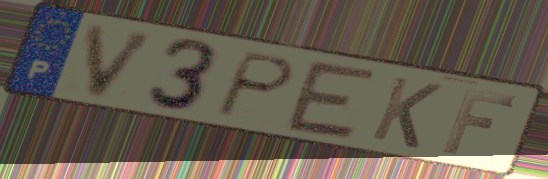3: (145, 38, 224, 114)
E: (280, 58, 382, 143)
F: (438, 86, 521, 157)
K: (366, 73, 446, 152)
P: (209, 49, 300, 121)
V: (84, 21, 163, 102)
